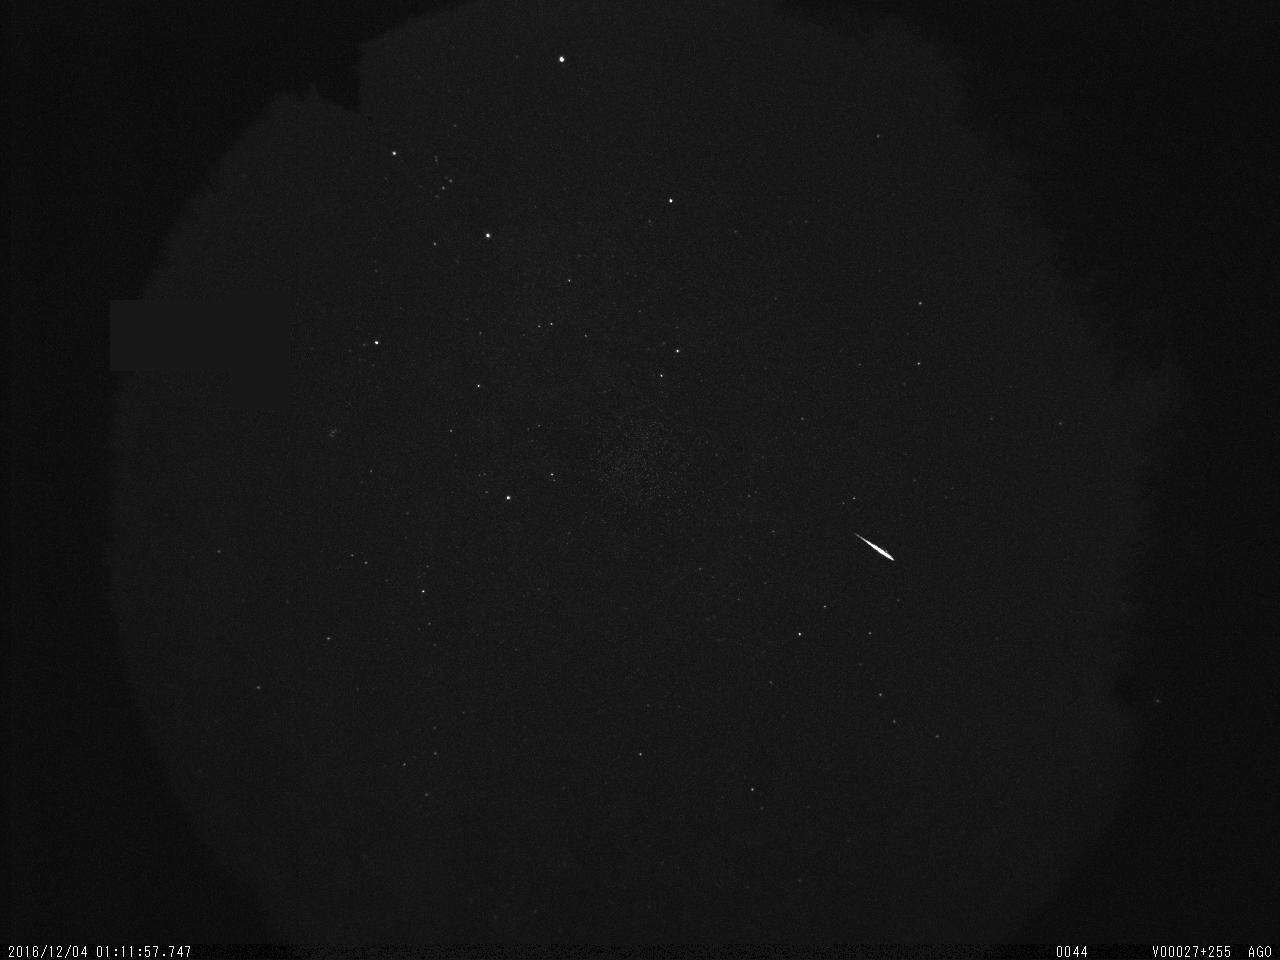meteor: (846, 519, 907, 579)
